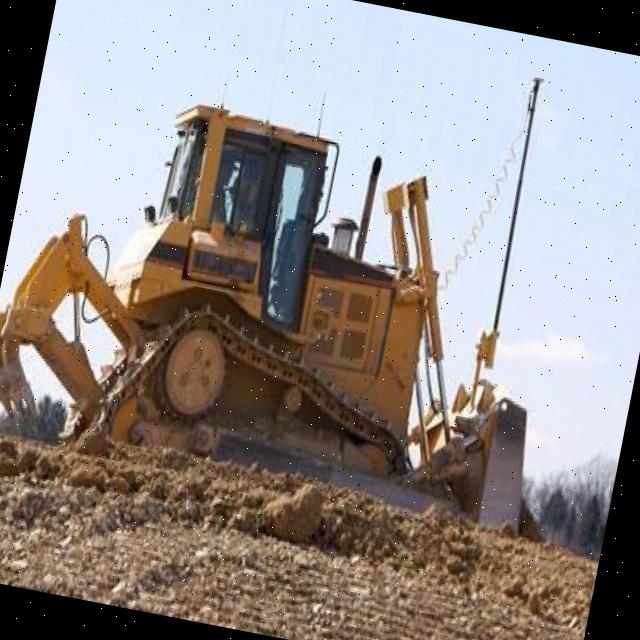Bulldozer: (0, 53, 613, 567)
